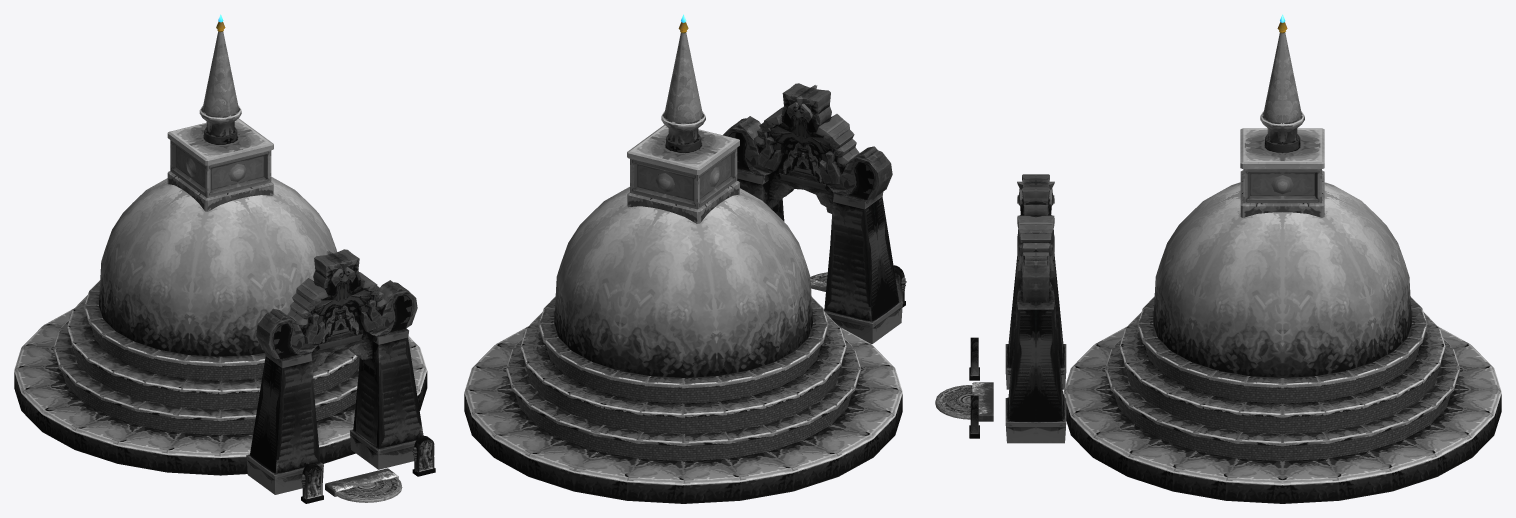
File: VeheraVihara [Blender].fbx
3 renders of one model, left to right at view 1: azimuth 30°, elevation 25°; view 2: azimuth 150°, elevation 25°; view 3: azimuth 270°, elevation 25°, orthographic. The views are drawn at different scales.
Visible parts, largest first — view 1: Stupa, MakaraTorana, Sadakadapahana, Muragala.L, Muragala.R; view 2: Stupa, MakaraTorana; view 3: Stupa, MakaraTorana, Sadakadapahana.
Part boxes in pixels (x1,y1,x2,y2): Stupa: [14, 14, 427, 475]; MakaraTorana: [246, 249, 423, 494]; Sadakadapahana: [325, 468, 402, 502]; Muragala.L: [412, 436, 435, 476]; Muragala.R: [300, 463, 323, 503]; Stupa: [464, 14, 902, 503]; MakaraTorana: [723, 83, 902, 343]; Stupa: [1063, 14, 1501, 503]; MakaraTorana: [1005, 174, 1066, 443]; Sadakadapahana: [935, 382, 993, 421].
Bounding box in the file's own units: 1600 × 1600 × 2068.
